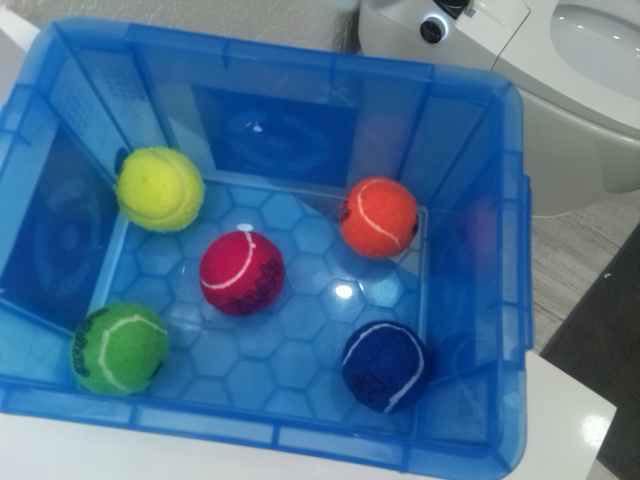blue-ball: (338, 318, 435, 415)
green-ball: (68, 301, 170, 398)
orange-ball: (337, 174, 421, 260)
red-ball: (198, 228, 286, 318)
yellow-ball: (114, 142, 206, 234)
